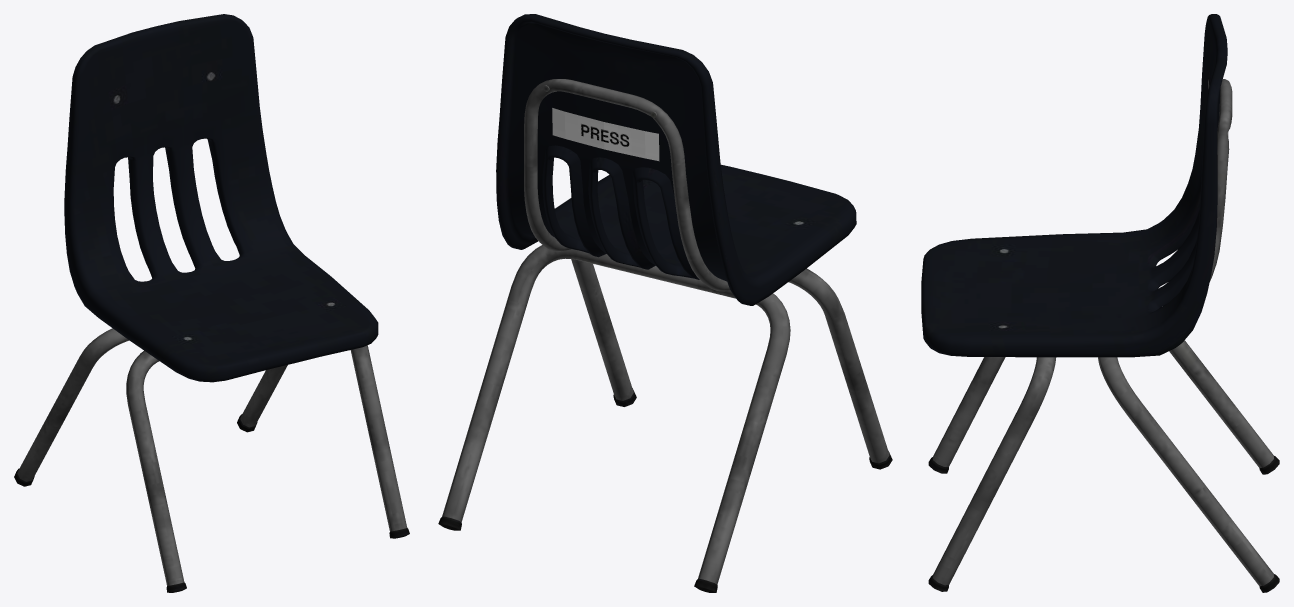
File: nyb_bull_chair.glb
3 renders of one model, left to right at view 1: azimuth 30°, elevation 25°; view 2: azimuth 150°, elevation 25°; view 3: azimuth 270°, elevation 25°, orthographic. The views are drawn at different scales.
Parts seen in each view (by area): view 1: SchoolChair_01; view 2: SchoolChair_01, stk_lbl_64f66327ca.png; view 3: SchoolChair_01.
Part boxes in pixels (<box>): SchoolChair_01: <box>14,14,409,592</box>; SchoolChair_01: <box>438,14,892,592</box>; stk_lbl_64f66327ca.png: <box>552,108,659,161</box>; SchoolChair_01: <box>921,14,1279,592</box>.
Size of the model in its own units: 0.5659 by 1.01 by 0.6752.
2 materials, 2 textured.
